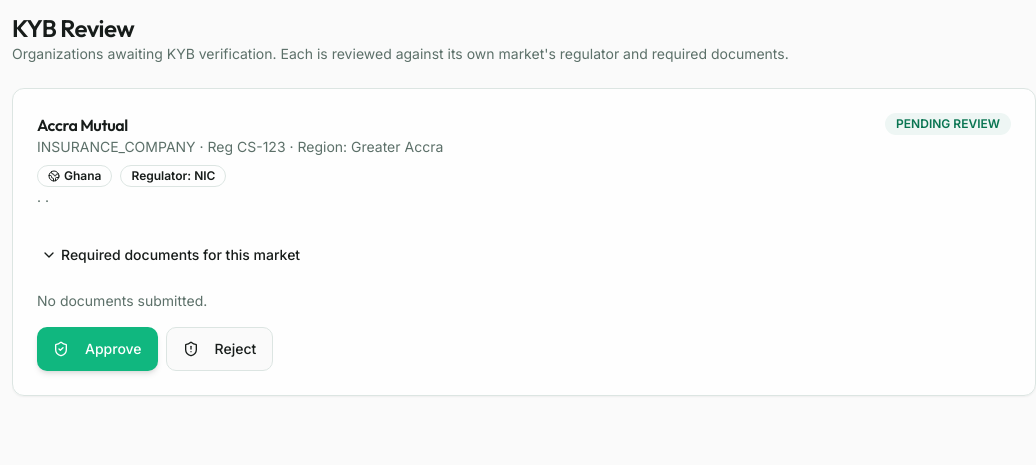
Test case: OrgKybReviewPage › does not warn when the checklist matches the card
Check: the heading "Accra Mutual" is shown, box 37,115 -> 128,135
Click the button "Required documents for this market": coordinates (171, 255) 29,235 -> 312,275
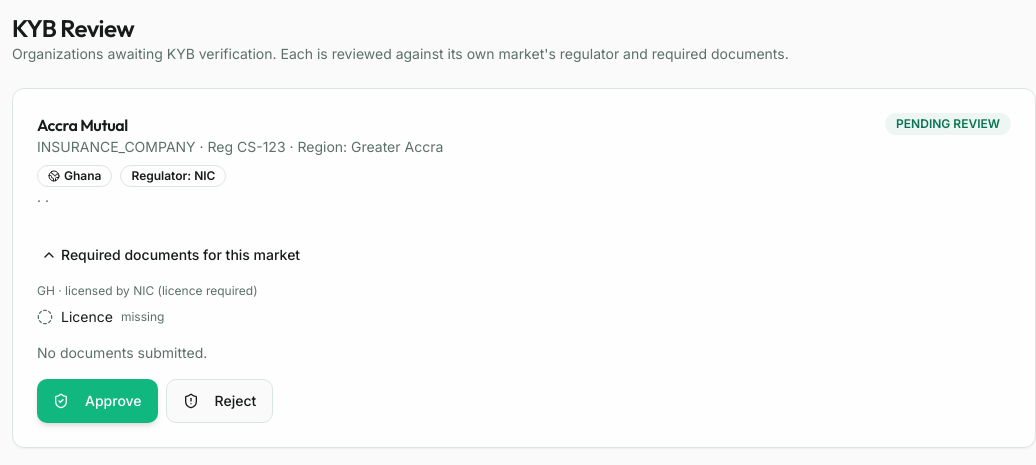
Check: the text "Licence" is shown, box 61,307 -> 113,327
